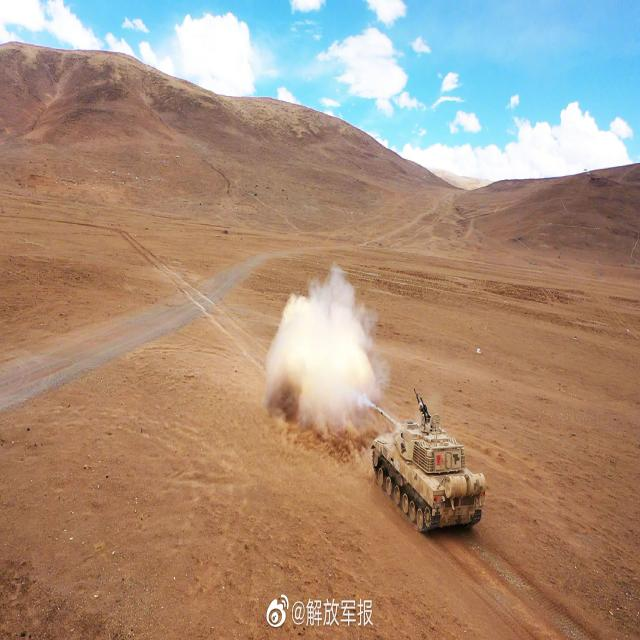tank: (371, 388, 488, 534)
